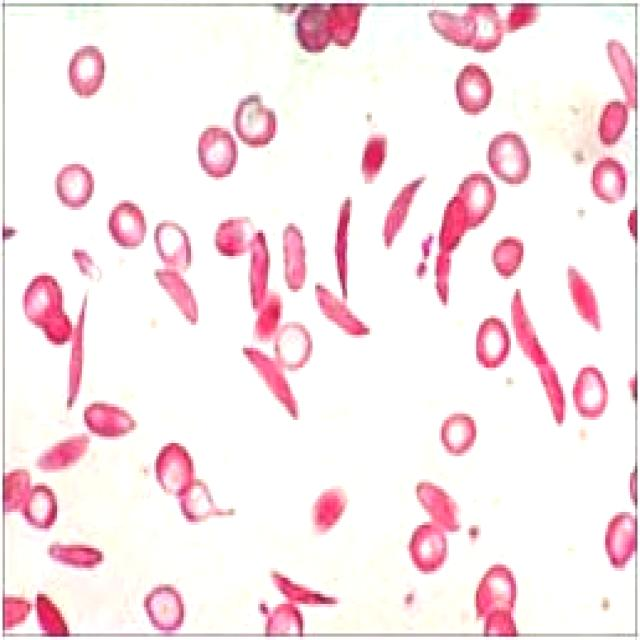RBC: (60, 32, 114, 112), (186, 118, 246, 187), (47, 154, 107, 220), (139, 213, 196, 279), (486, 118, 536, 187), (228, 89, 280, 148), (104, 190, 154, 250), (466, 315, 516, 374), (434, 404, 481, 459)
sickle cell: (501, 288, 578, 426), (230, 338, 302, 423), (372, 161, 437, 253), (54, 289, 96, 417), (266, 554, 342, 614), (313, 276, 377, 341), (558, 259, 610, 338), (330, 190, 362, 302), (146, 269, 204, 325)
